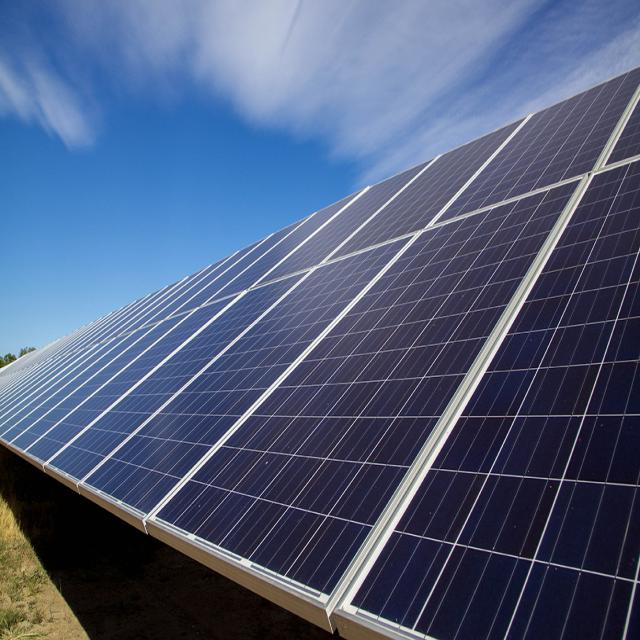clean: (8, 72, 634, 633)
